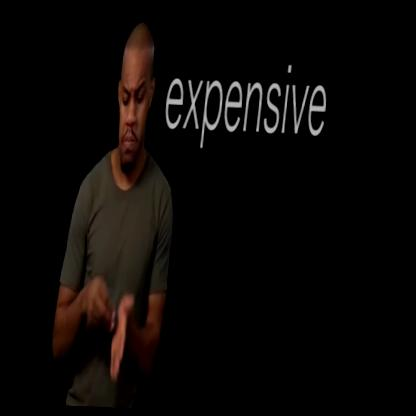Expensive: (74, 239, 155, 398)
